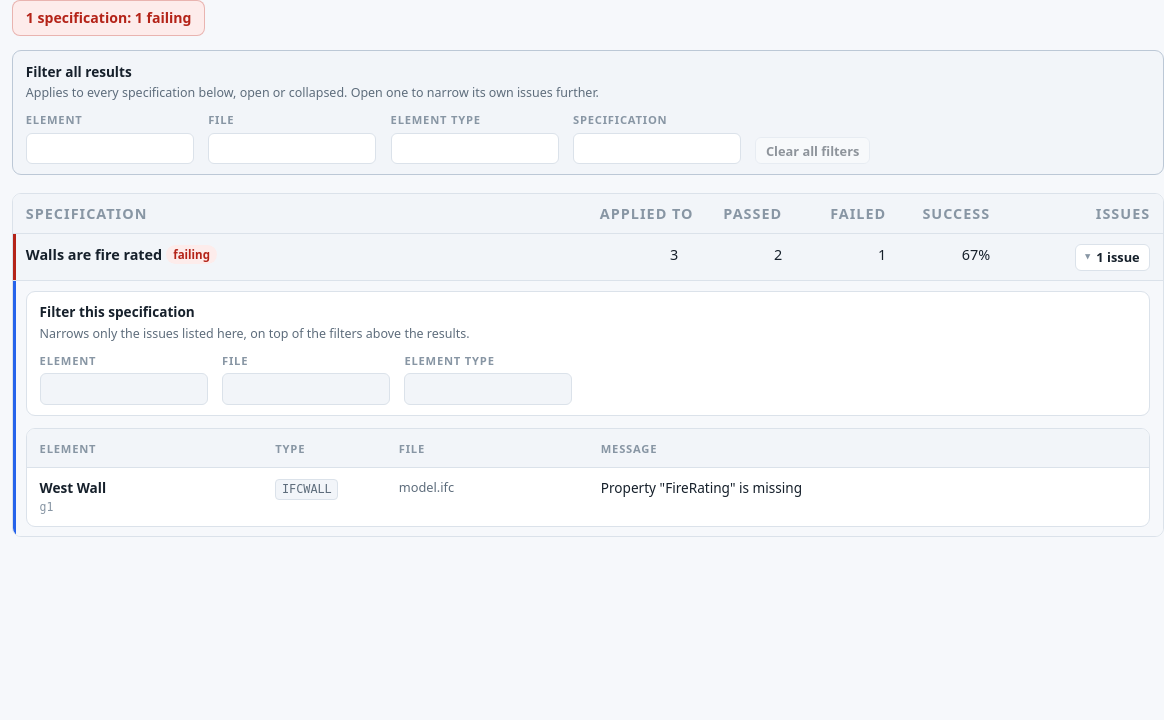
Test case: CheckSummary › keeps a specification's filter after its issue table is collapsed, and flags the row
This screenshot has width=1164, height=720.
Type "no-such-element" into the field named "Filter by element name or GlobalId" at (124, 389), box [40,373,208,405]
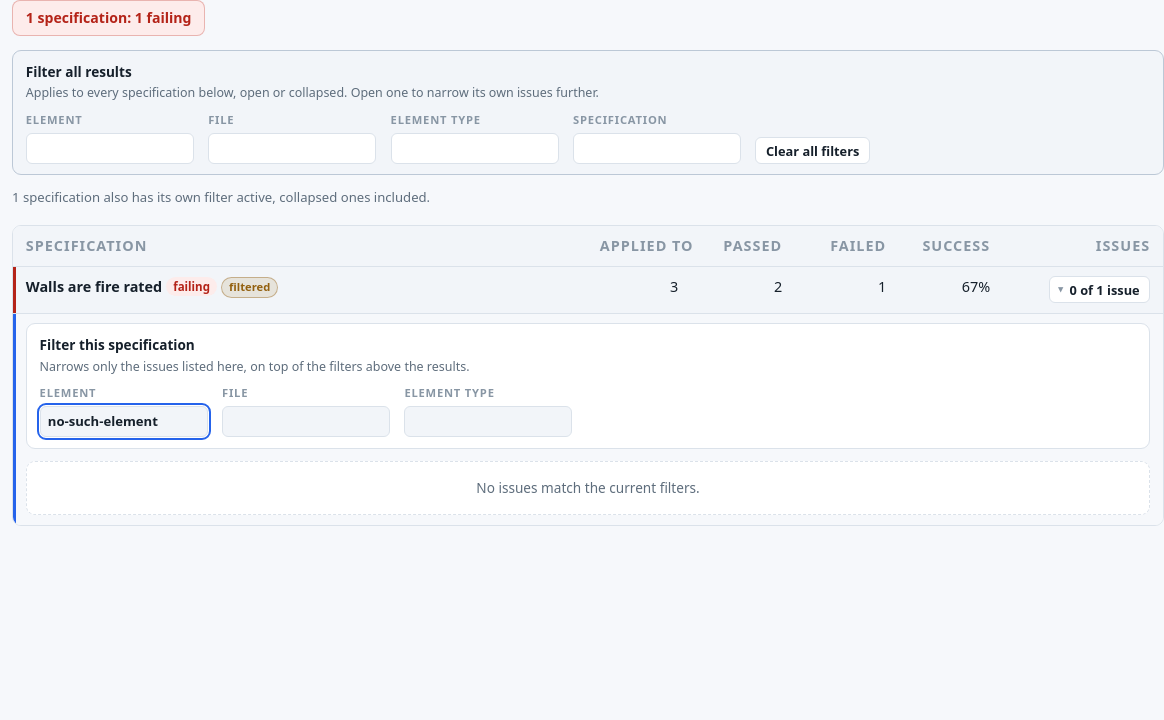
Click the button with aria-label "Hide 0 of 1 issue" at (1099, 290), box [1048,276,1150,303]
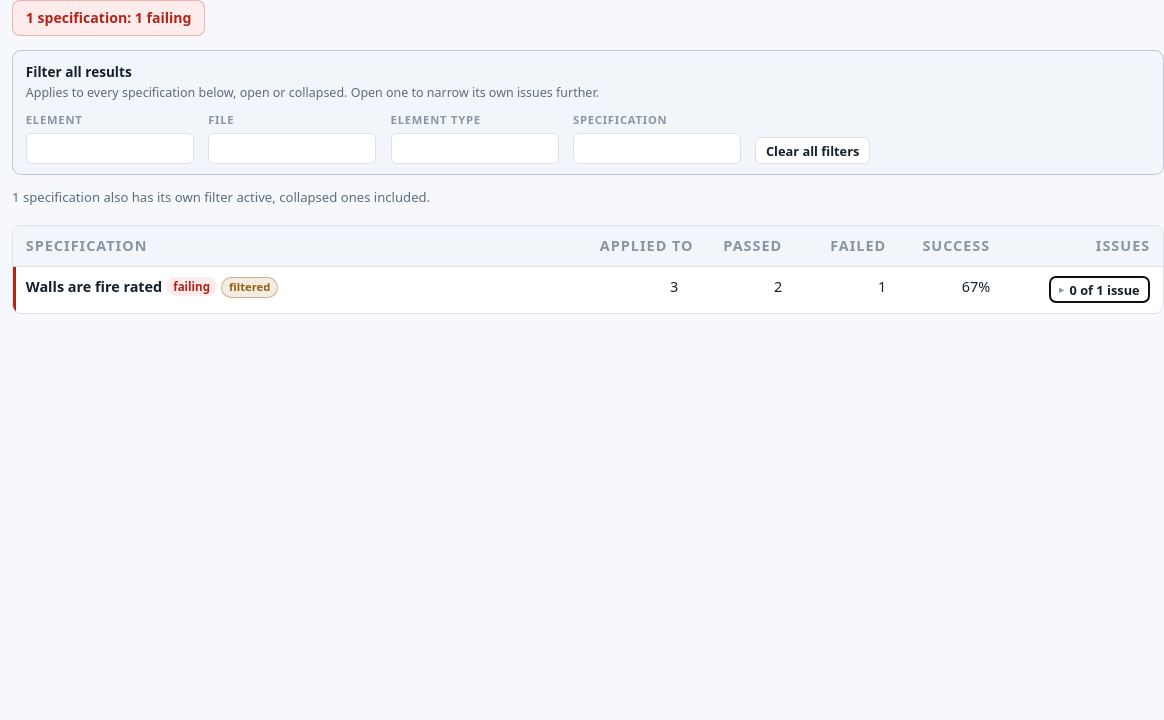
Result: the text "filtered" is shown at [221,278,278,298]
Result: the text "1 specification also has its own filter active, collapsed ones included." is shown at [12,188,430,206]
Result: the button with aria-label "Show 0 of 1 issue for" is shown at [1048,276,1150,303]
